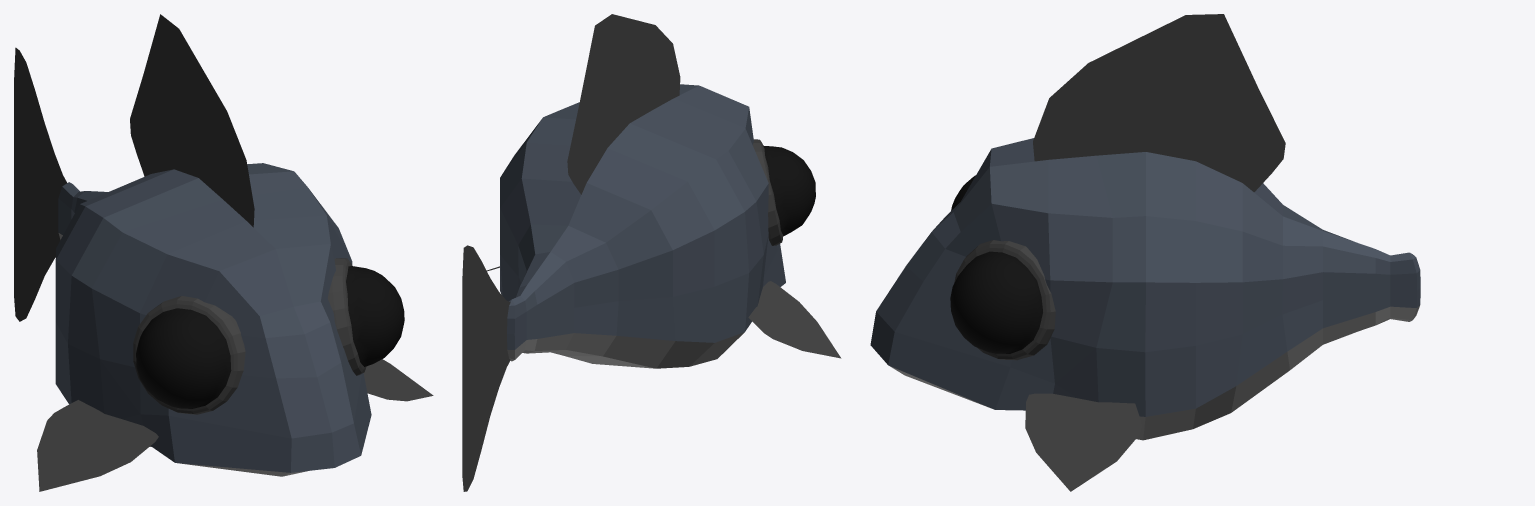
Rendered from Shark.glb.
3 views of the same model, side by side, from view 1: azimuth 30°, elevation 25°; view 2: azimuth 150°, elevation 25°; view 3: azimuth 270°, elevation 25° (orthographic). The views are drawn at different scales.
Parts seen in each view (by area): view 1: Shark; view 2: Shark; view 3: Shark.
Part boxes in pixels (<box>): Shark: <box>14,14,433,491</box>; Shark: <box>462,14,841,491</box>; Shark: <box>870,14,1420,491</box>.
Size of the model in its own units: 0.4187 by 0.4169 by 0.5894.
